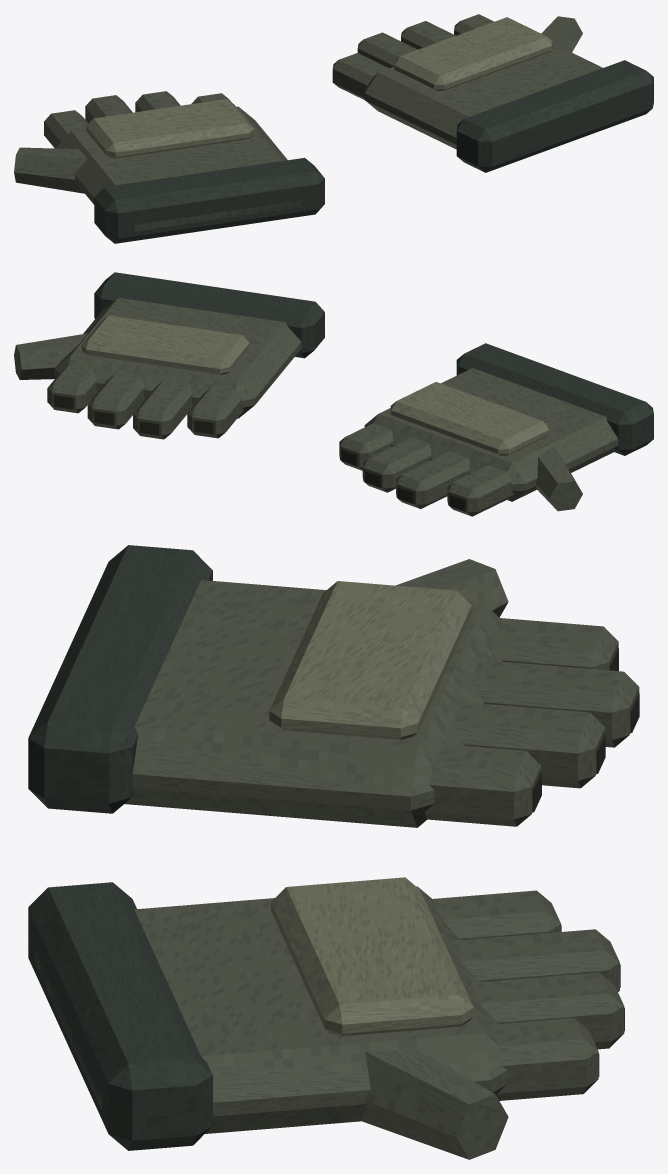
The model's file is gloves_fingerless.glb.
3 views of the same model, one above another, from view 1: azimuth 30°, elevation 25°; view 2: azimuth 150°, elevation 25°; view 3: azimuth 270°, elevation 25° (orthographic). The views are drawn at different scales.
Parts seen in each view (by area): view 1: block_wrist strap (×2), block_palm (×2), block_knuckle padding (×2), block_thumb (×2), block_finger 0 (×2), block_finger 1 (×2), block_finger 2 (×2), block_finger 3; view 2: block_palm (×2), block_wrist strap (×2), block_knuckle padding (×2), block_finger 1 (×2), block_finger 2 (×2), block_finger 0 (×2), block_thumb (×2), block_finger 3 (×2); view 3: block_palm (×2), block_wrist strap (×2), block_knuckle padding (×2), block_finger 2 (×2), block_finger 3 (×2), block_finger 1 (×2), block_thumb (×2), block_finger 0 (×2).
Part boxes in pixels (box(x1,y1,x2,y2)): block_wrist strap (×2): box(94, 60, 653, 243); block_palm (×2): box(55, 43, 602, 231); block_knuckle padding (×2): box(86, 17, 552, 158); block_thumb (×2): box(14, 16, 582, 193); block_finger 0 (×2): box(44, 53, 388, 148); block_finger 1 (×2): box(85, 32, 417, 123); block_finger 2 (×2): box(135, 21, 455, 112); block_finger 3: box(454, 14, 493, 35); block_palm (×2): box(54, 298, 618, 501); block_wrist strap (×2): box(94, 272, 653, 455); block_knuckle padding (×2): box(81, 315, 548, 455); block_finger 1 (×2): box(133, 379, 469, 508); block_finger 2 (×2): box(87, 372, 431, 492); block_finger 0 (×2): box(187, 386, 513, 516); block_thumb (×2): box(14, 333, 582, 511); block_finger 3 (×2): box(47, 365, 392, 470); block_palm (×2): box(35, 580, 506, 1133); block_wrist strap (×2): box(28, 545, 212, 1150); block_knuckle padding (×2): box(269, 581, 473, 1036); block_finger 2 (×2): box(451, 702, 624, 1049); block_finger 3 (×2): box(424, 744, 598, 1100); block_finger 1 (×2): box(451, 660, 639, 991); block_thumb (×2): box(361, 559, 508, 1159); block_finger 0 (×2): box(432, 618, 618, 939).
Bounding box in the file's own units: 0.2598 × 0.023 × 0.1209.
1 material, 1 textured.
